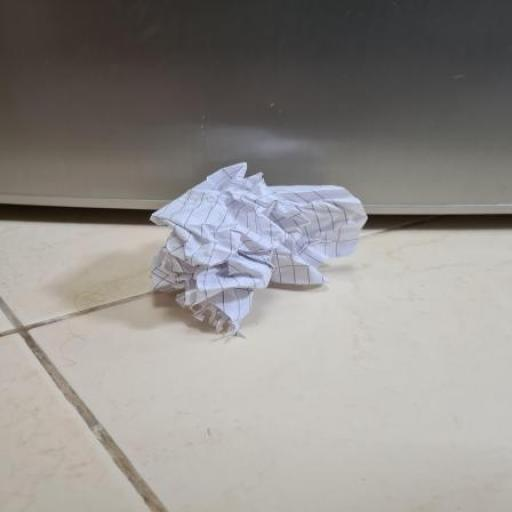paper: (72, 130, 434, 356)
